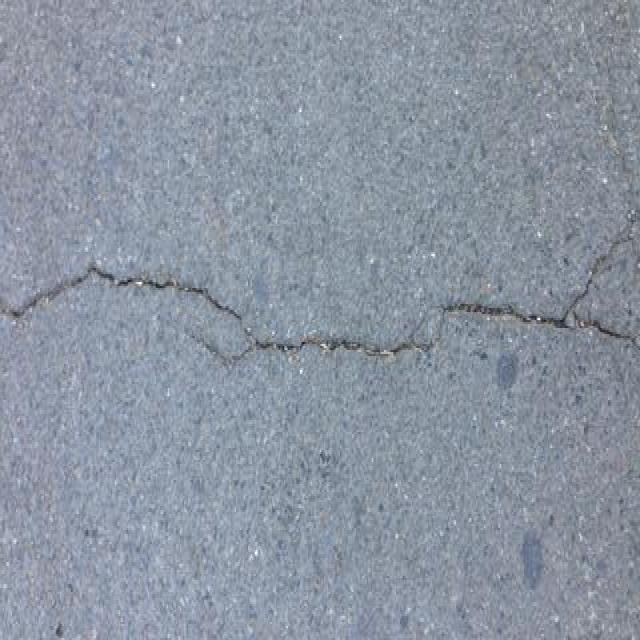Retak-Melintang: (3, 262, 640, 357), (566, 230, 631, 310)
